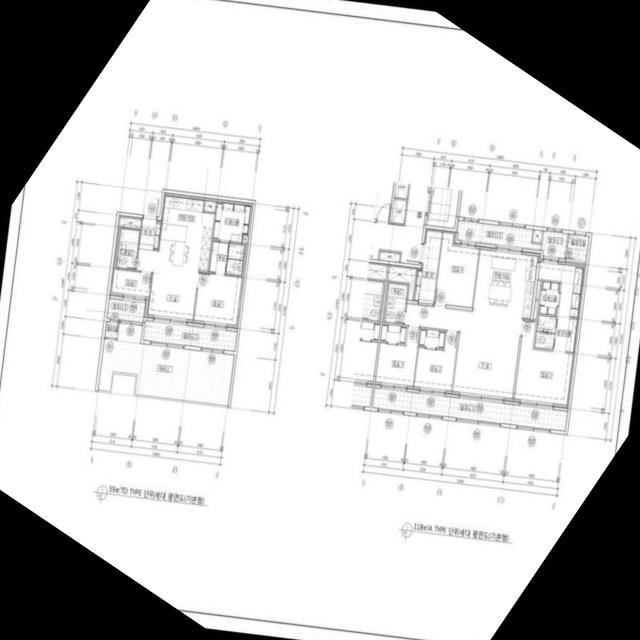background: (0, 0, 640, 640)
space_balconi: (373, 388, 568, 431), (143, 321, 237, 351), (457, 221, 541, 250), (107, 299, 145, 322), (541, 231, 568, 259)
space_bedroom: (514, 320, 573, 408), (435, 233, 479, 308), (414, 329, 458, 394), (376, 324, 420, 389), (194, 273, 244, 328), (110, 269, 152, 300)
space_dressroom: (213, 200, 253, 243), (539, 281, 560, 315)
space_elevator: (427, 187, 459, 228)
space_elevator_hall: (369, 184, 430, 265)
space_front: (414, 231, 442, 304), (139, 219, 161, 251)
space_kitchen: (473, 247, 538, 319), (157, 193, 215, 272)
space_living_room: (405, 304, 523, 401), (137, 249, 199, 323)
space_other: (538, 262, 584, 352), (388, 267, 416, 300), (391, 199, 407, 224), (533, 281, 541, 320), (118, 216, 141, 229), (395, 183, 409, 199), (379, 252, 400, 262), (204, 198, 217, 212), (532, 230, 542, 243), (242, 236, 249, 244)
space_outdoor_room: (566, 234, 589, 263), (105, 322, 119, 339)
space_toilet: (209, 241, 245, 276), (116, 228, 140, 270), (384, 283, 408, 324), (534, 315, 557, 350)
